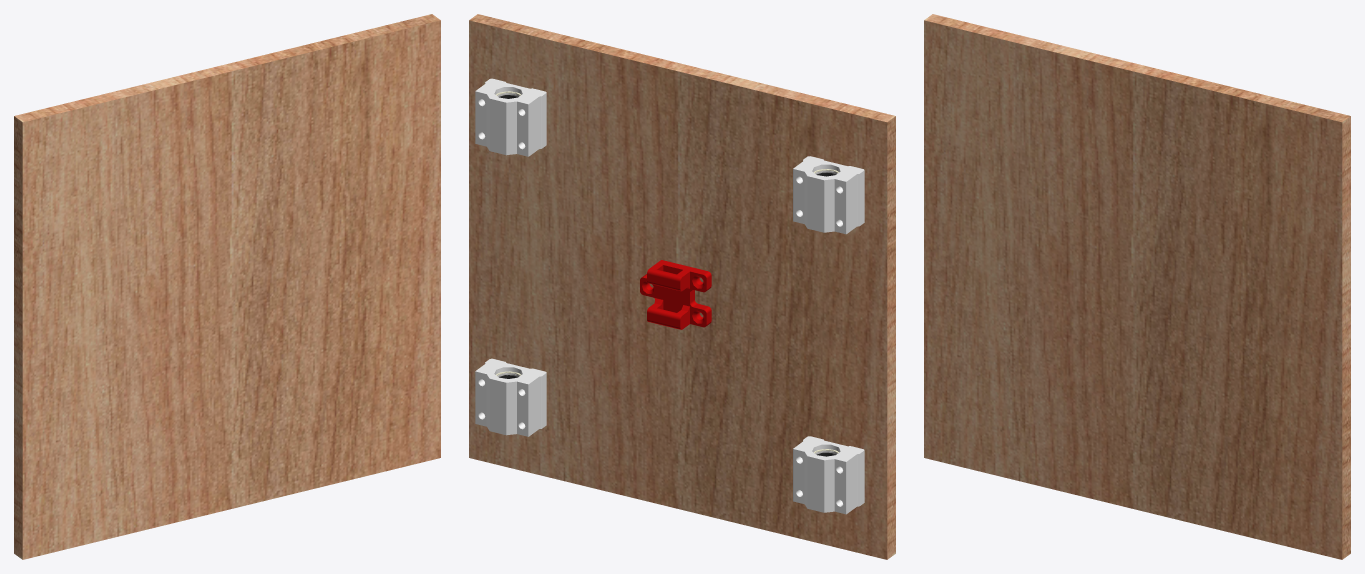
Rendered from deska.glb.
The picture shows the model from 3 angles, left to right: view 1: azimuth 30°, elevation 25°; view 2: azimuth 150°, elevation 25°; view 3: azimuth 330°, elevation 25°; orthographic projection.
Parts seen in each view (by area): view 1: Solid1:16; view 2: Solid1:16, Solid1:8, Solid1, Solid1:4, Solid1:12, Solid6; view 3: Solid1:16.
Boxes of the visible parts, left/top/right/bottom form: Solid1:16: left=14, top=14, right=440, bottom=559; Solid1:16: left=469, top=14, right=895, bottom=559; Solid1:8: left=475, top=78, right=546, bottom=156; Solid1: left=475, top=358, right=546, bottom=436; Solid1:4: left=793, top=436, right=864, bottom=514; Solid1:12: left=793, top=156, right=864, bottom=234; Solid6: left=640, top=260, right=711, bottom=329; Solid1:16: left=924, top=14, right=1350, bottom=559.
Size of the model in its own units: 0.25 by 0.25 by 0.031.
Materials: 6 (1 with a texture image).
